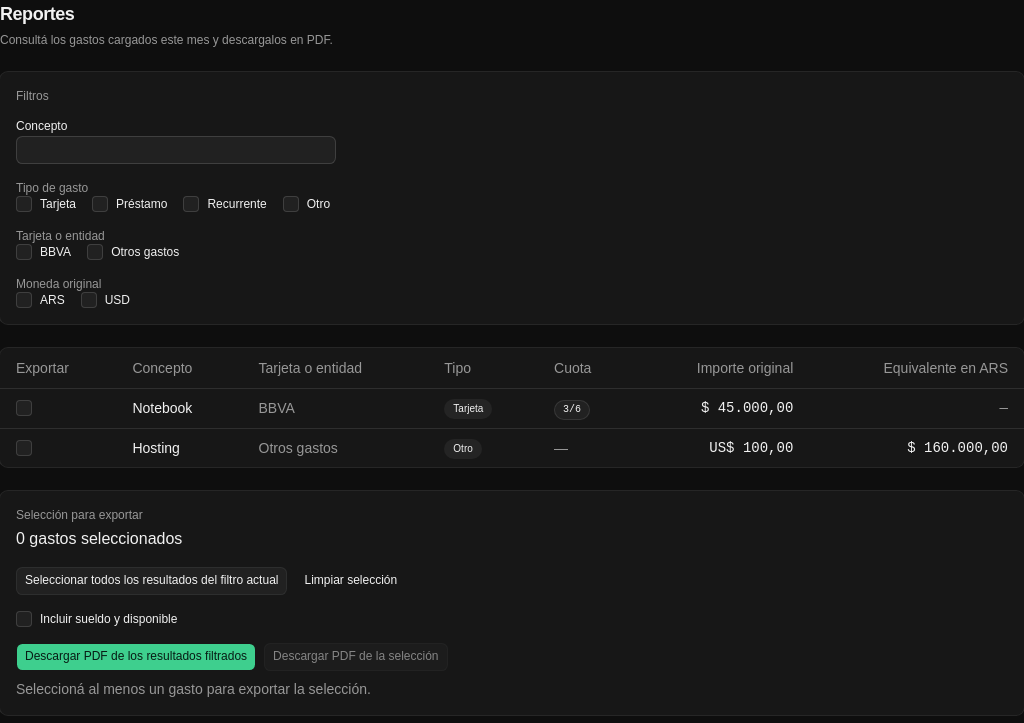
it: ReportsPage › aplicar un filtro no pierde la selección y avisa de lo que quedó fuera
Click the checkbox named "Notebook". click: (24, 408)
box: [16,400,32,416]
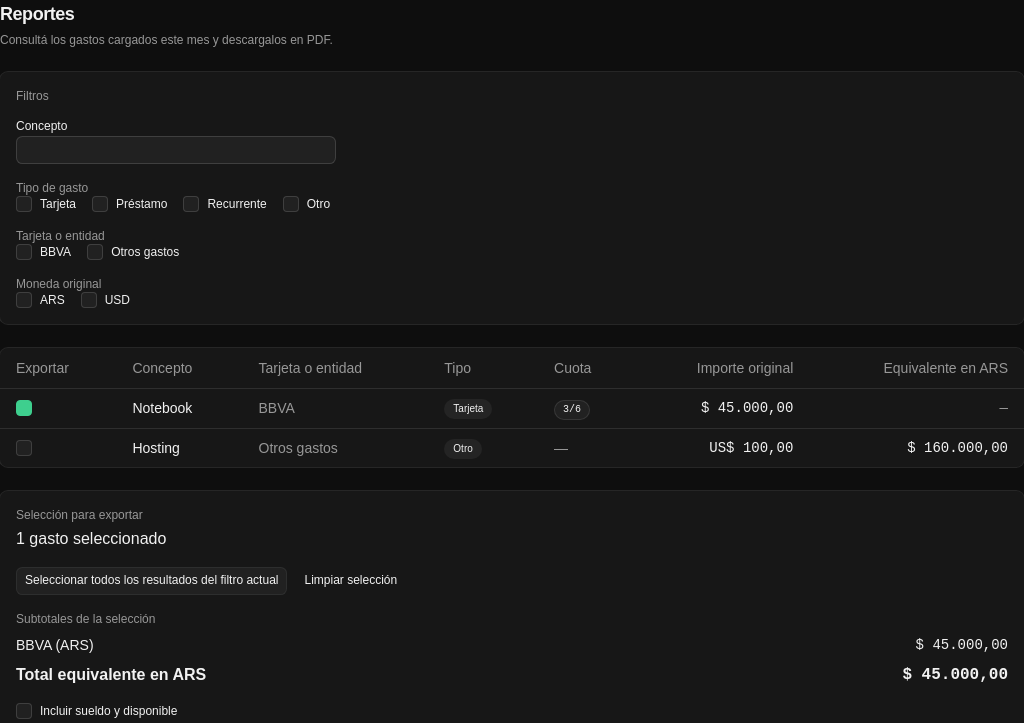
Click the checkbox named "Hosting". click: (24, 448)
box: [16,440,32,456]
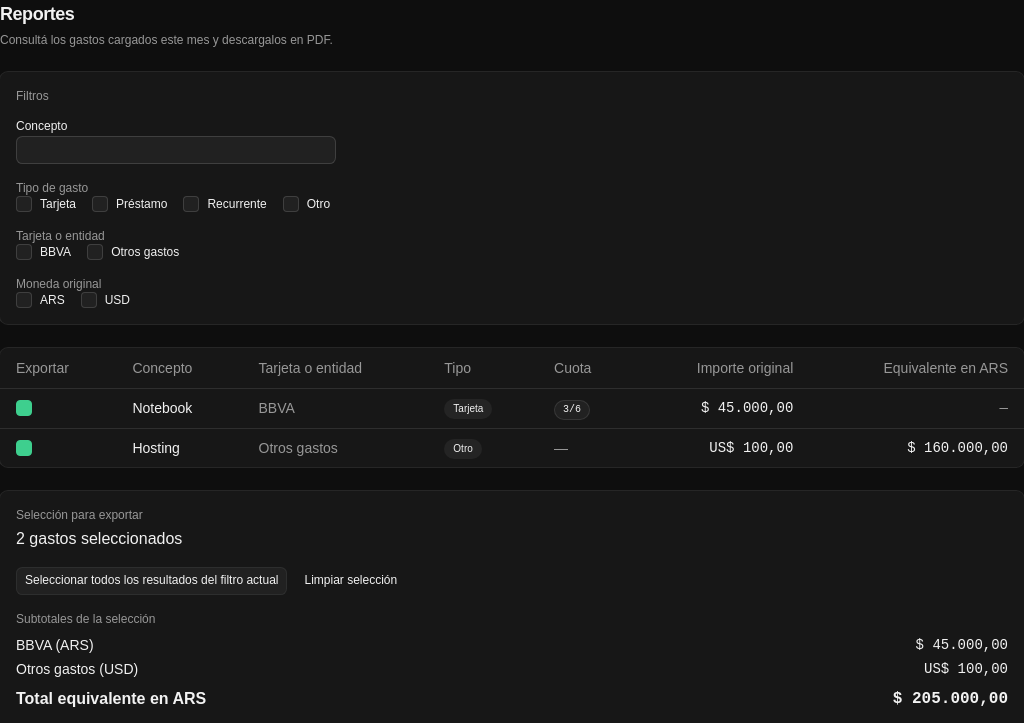
Expected: the text "2 gastos seleccionados" is shown, [16,530,182,547]
Type "notebook" into the field labelled "Concepto". click: (176, 150)
box: [16,136,336,164]
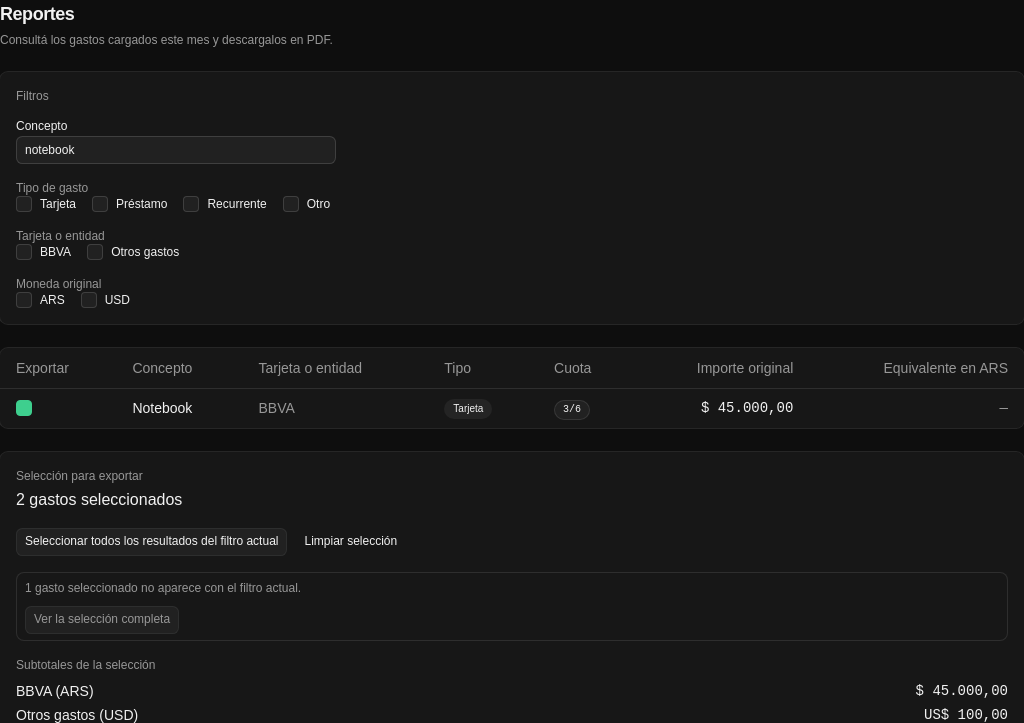
Expected: the text "2 gastos seleccionados" is shown, [16,491,182,508]
Expected: the text "Hosting" is gone
Expected: the text "1 gasto seleccionado no aparece con el filtro actual." is shown, [25,579,301,598]
Click the button "Ver la selección completa". click: (102, 620)
box: [25,606,179,634]
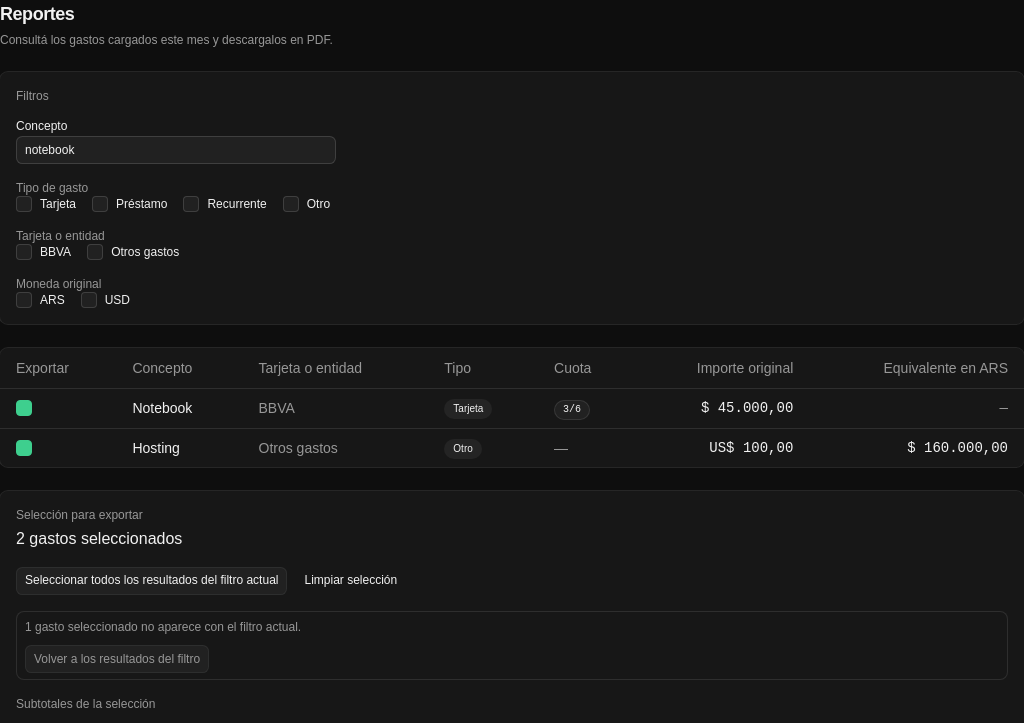
Expected: the text "Hosting" is shown, [116,428,242,467]
